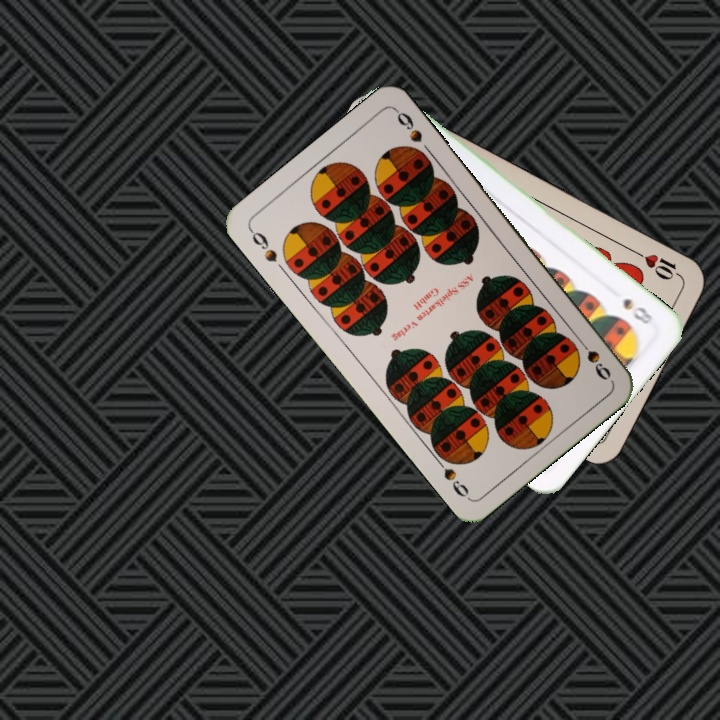H10: (629, 246, 684, 283)
S8: (619, 294, 656, 327)
S9: (571, 332, 614, 383), (245, 224, 280, 265)
